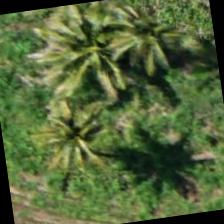Kelapa_Sawit: (17, 86, 119, 188), (49, 0, 151, 94), (101, 0, 203, 83)
